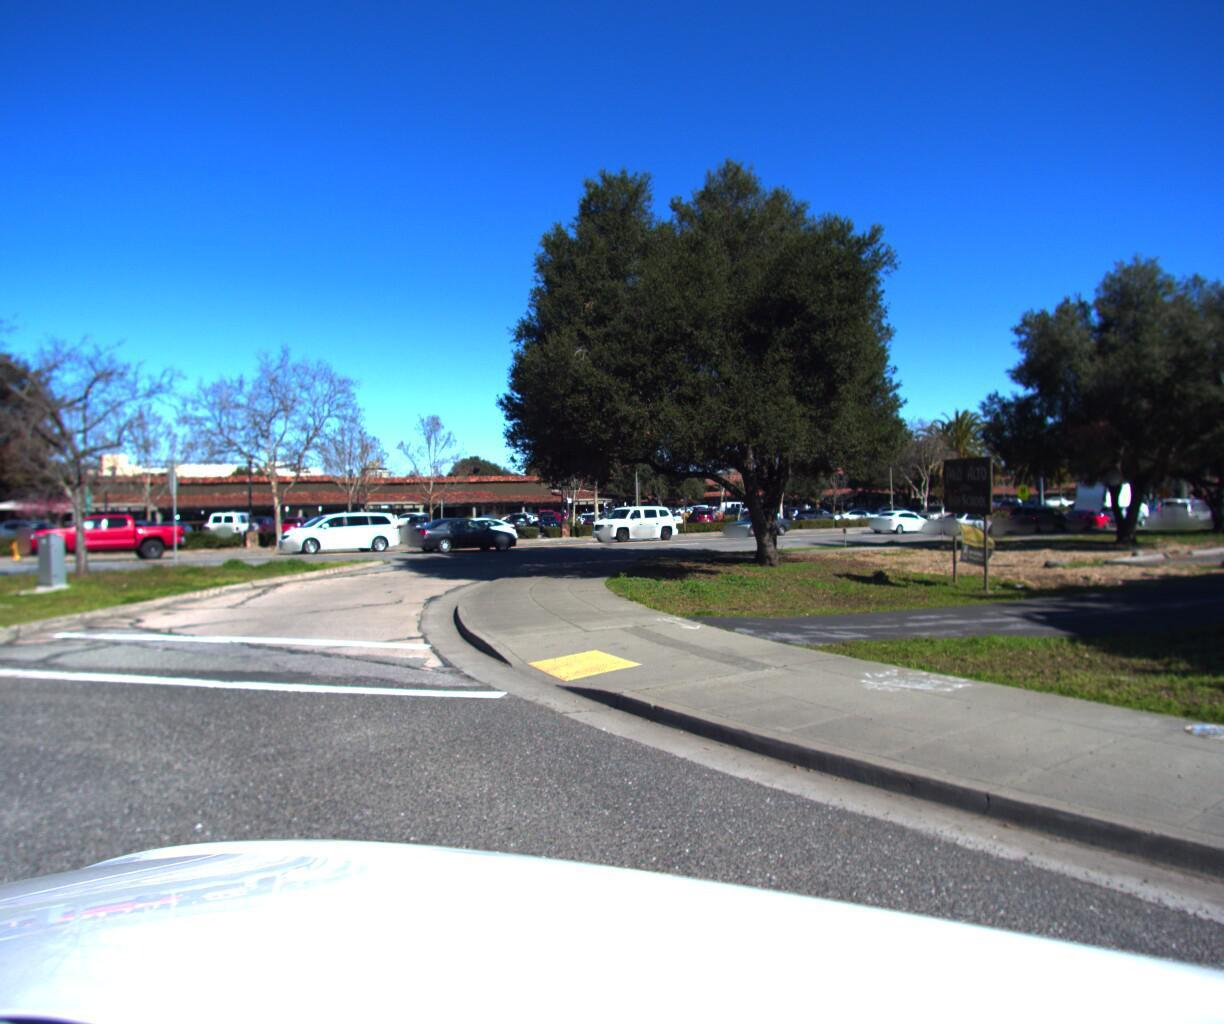car: (15, 511, 192, 570), (268, 509, 405, 557), (396, 513, 521, 554), (582, 495, 679, 543), (420, 514, 525, 549), (716, 507, 800, 540), (864, 506, 936, 533), (904, 501, 966, 532), (930, 509, 1003, 535), (1005, 508, 1072, 533), (1057, 504, 1117, 528), (1162, 495, 1217, 521), (794, 504, 851, 522), (837, 504, 892, 521)
truck: (1065, 474, 1158, 524), (1154, 492, 1211, 518), (1198, 491, 1224, 518)
